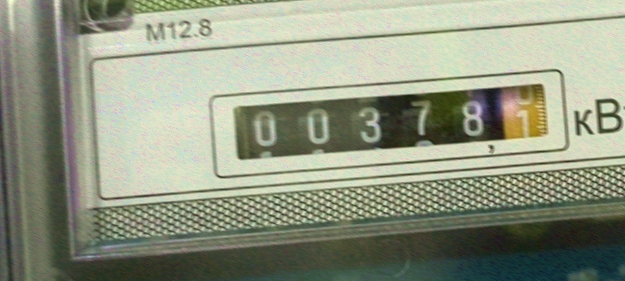0: (251, 106, 280, 147), (304, 105, 330, 145), (512, 83, 534, 105)
1: (512, 106, 533, 138)
3: (355, 103, 382, 145)
7: (407, 97, 432, 136)
8: (459, 97, 484, 137)
screen: (212, 64, 567, 170)
